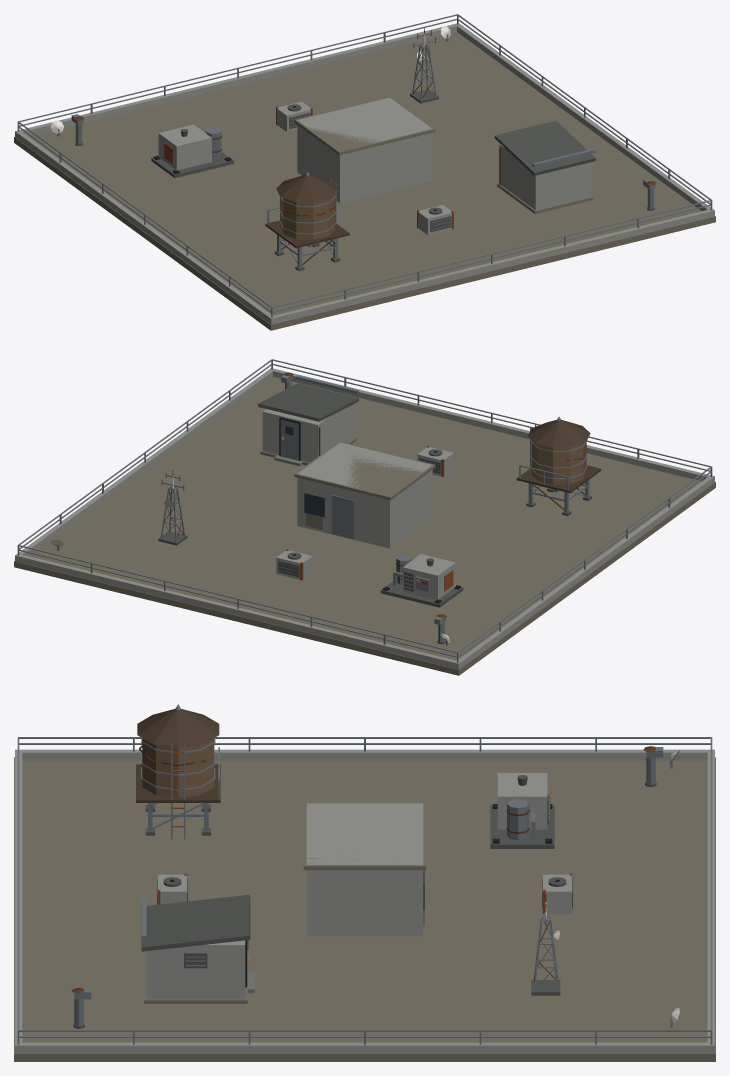
File: tw_slab_24_crown.glb
3 renders of one model, top to bottom at view 1: azimuth 30°, elevation 25°; view 2: azimuth 150°, elevation 25°; view 3: azimuth 270°, elevation 25°, orthographic. The views are drawn at different scales.
Visible parts, largest first — view 1: tw_slab_24_crown; view 2: tw_slab_24_crown; view 3: tw_slab_24_crown.
Boxes of the visible parts, x1,y1,x2,y2 form: tw_slab_24_crown: (14,14,715,330); tw_slab_24_crown: (14,359,715,675); tw_slab_24_crown: (14,704,715,1061).
Bounding box in the file's own units: 24.06 × 4.75 × 24.06.
Materials: 3 (3 with a texture image).
